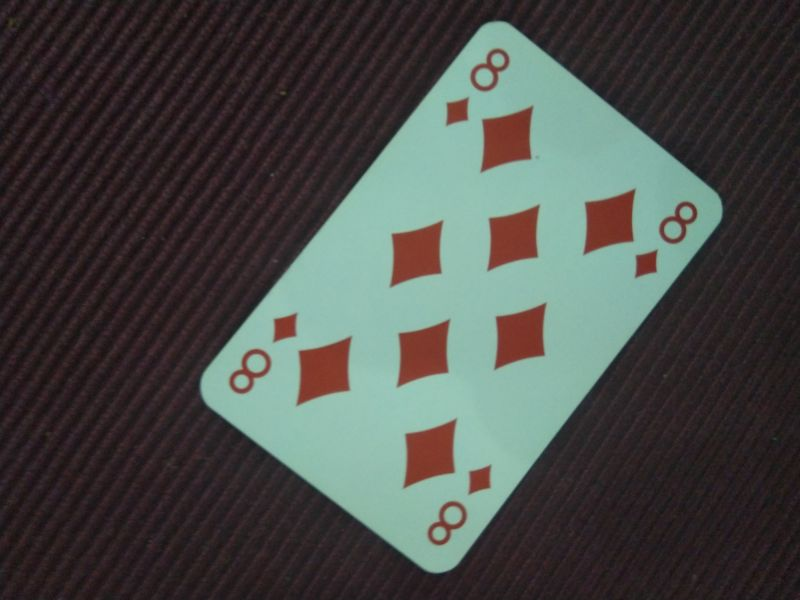8d: (224, 311, 302, 395), (422, 463, 497, 546), (630, 195, 700, 283), (440, 46, 512, 129)
